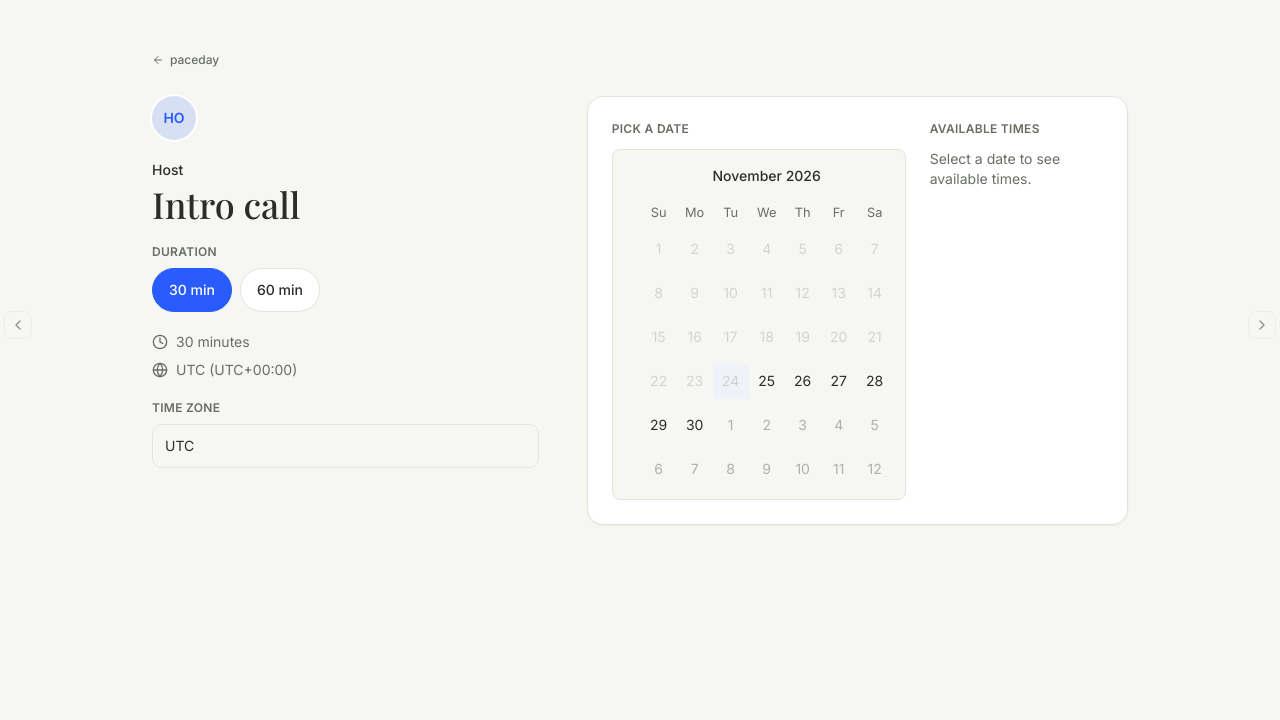
Test: PAC-82 public booking: idempotent retry › AC-26: a lost answer shows 'may have been saved' and one Try again; nothing re-sends until it is pressed; pressing sends the same key and body once
The image size is (1280, 720).
Click the button "25" at point(767, 381), box [749,363,785,399]
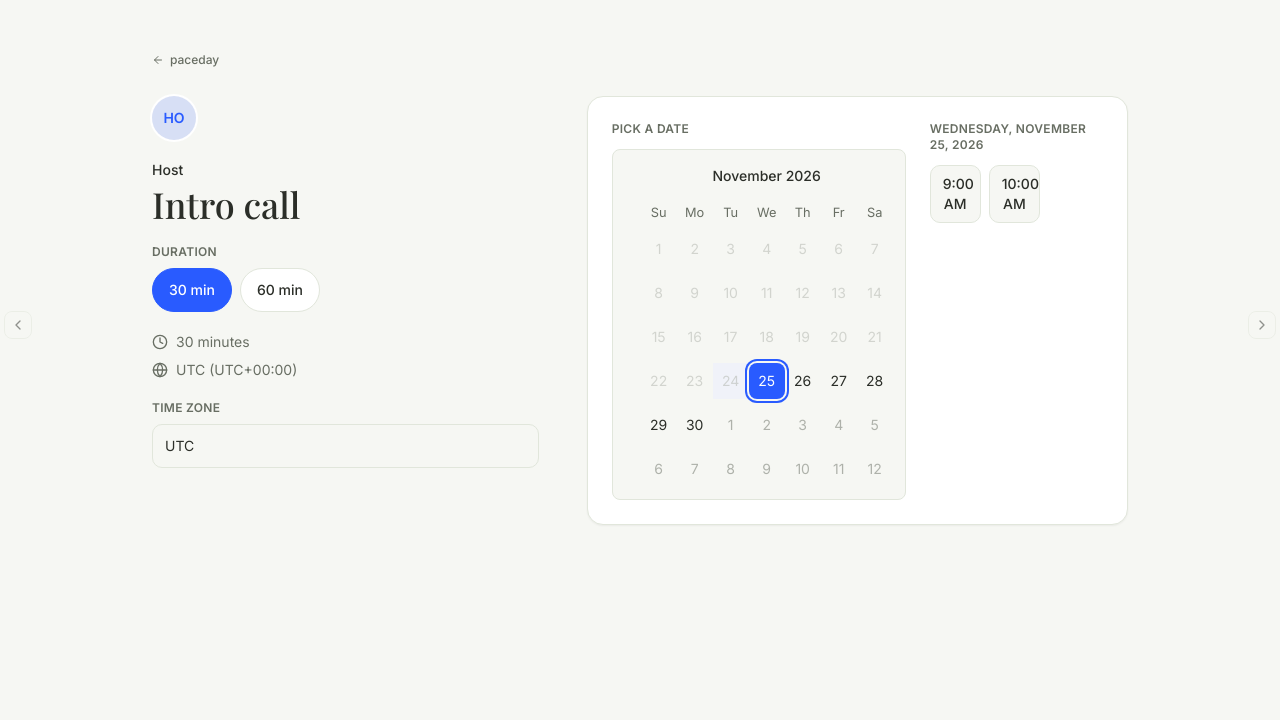
Check: the button labelled "9:00 AM" is shown
Check: the button labelled "10:00 AM" is shown, box [989,165,1040,223]
Click the button labelled "9:00 AM" at point(955, 194), box [930,165,981,223]
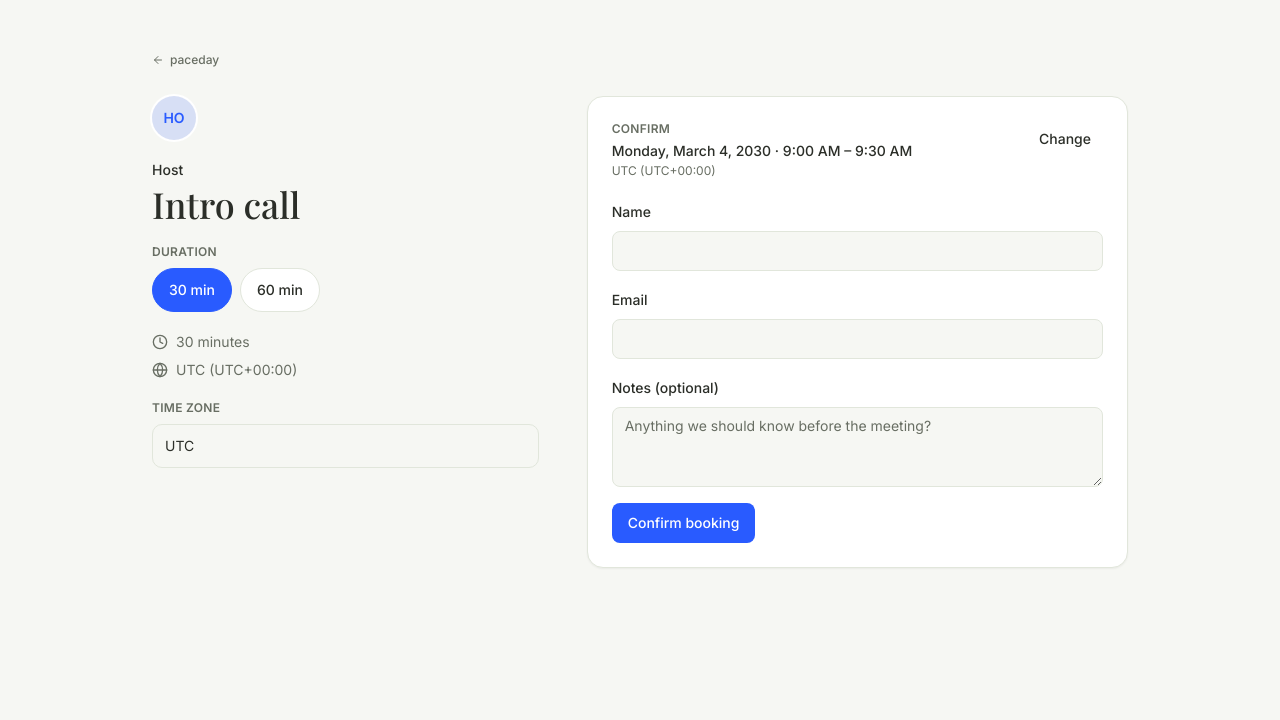
Type "Booker" into the field labelled "Name" at point(857, 251), box [612,231,1103,271]
Type "booker@co.com" into the field labelled "Email" at point(857, 339), box [612,319,1103,359]
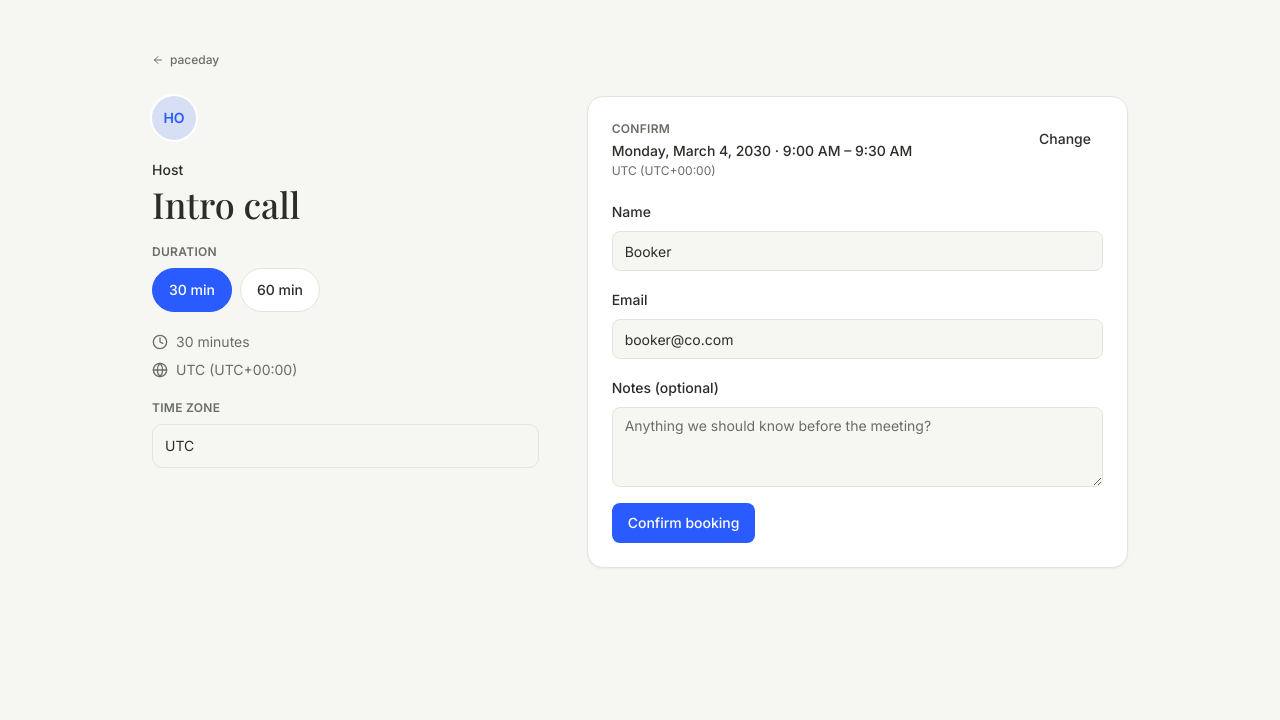
Type "Agenda" into the text box labelled "Notes (optional)" at point(857, 447), box [612,407,1103,487]
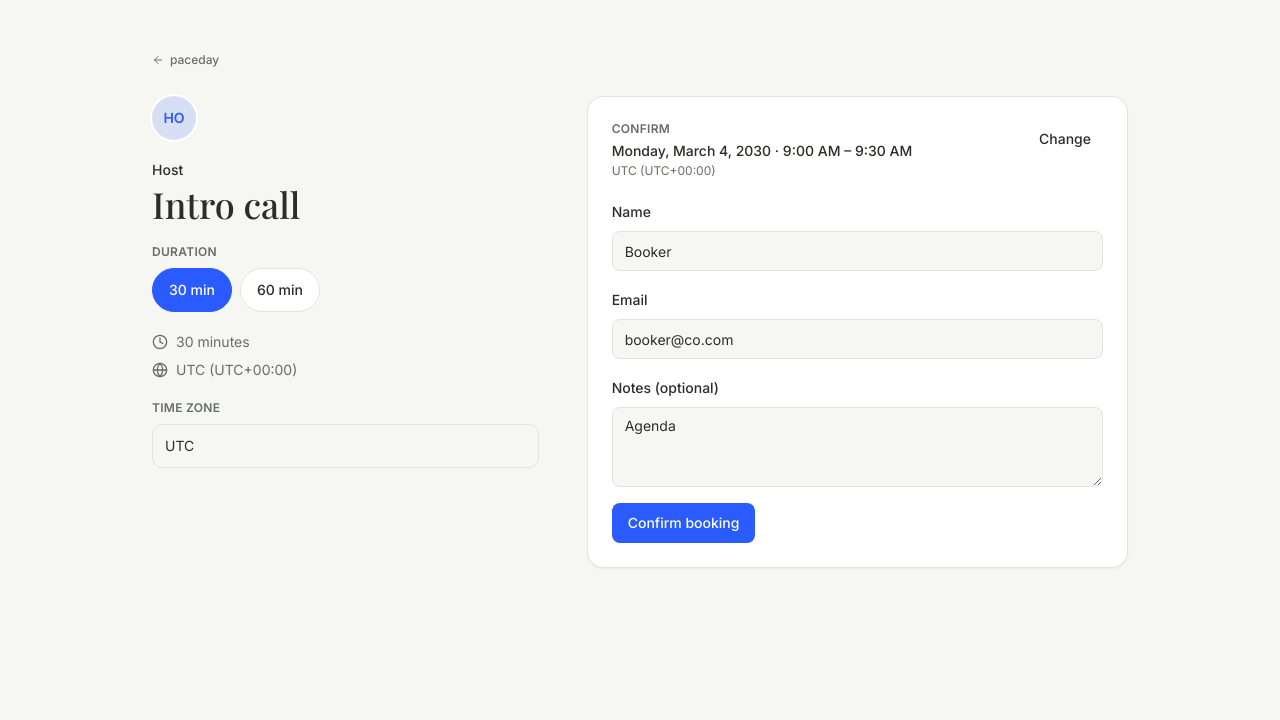
Click the button "Confirm booking" at point(684, 523), box [612,503,756,543]
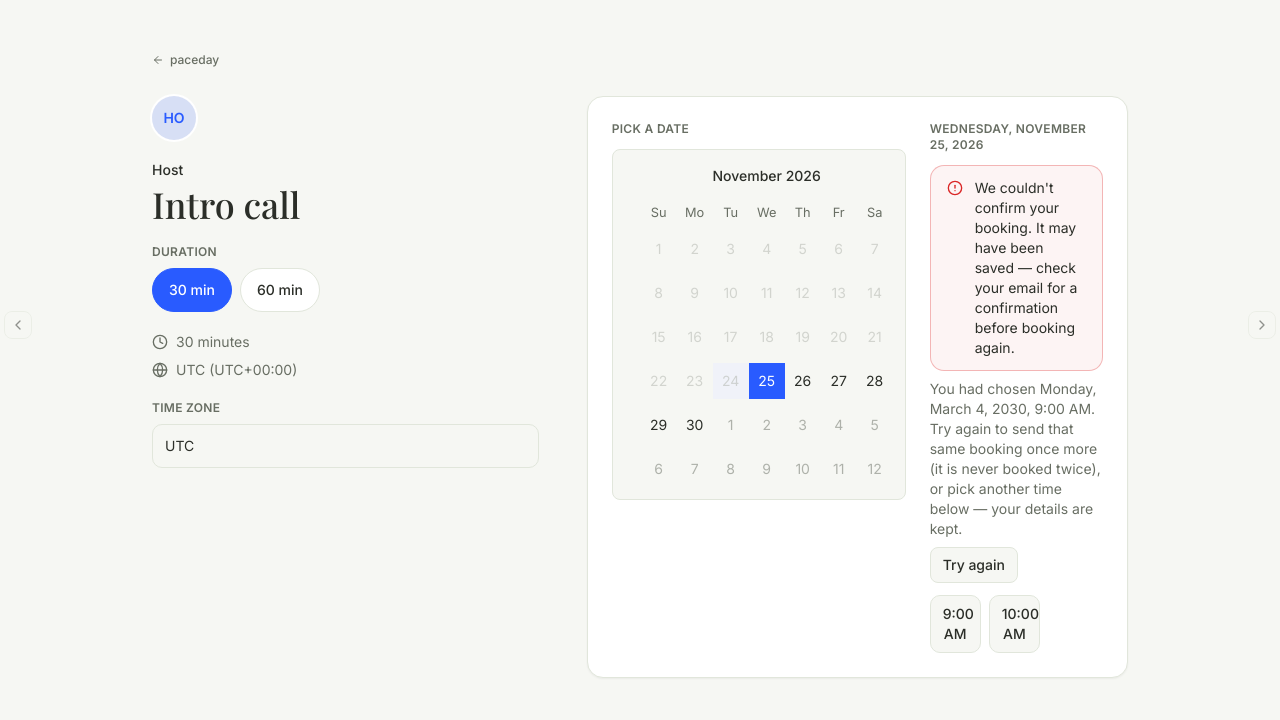
Check: the number of buttons with test id "booking-try-again" is 1
Check: the message with test id "api-error" shows "We couldn't confirm your booking. It may have been saved — check your email for a confirmation before booking again.", box [975,179,1077,356]
Click the button with test id "booking-try-again" at point(974, 565), box [930,547,1018,583]
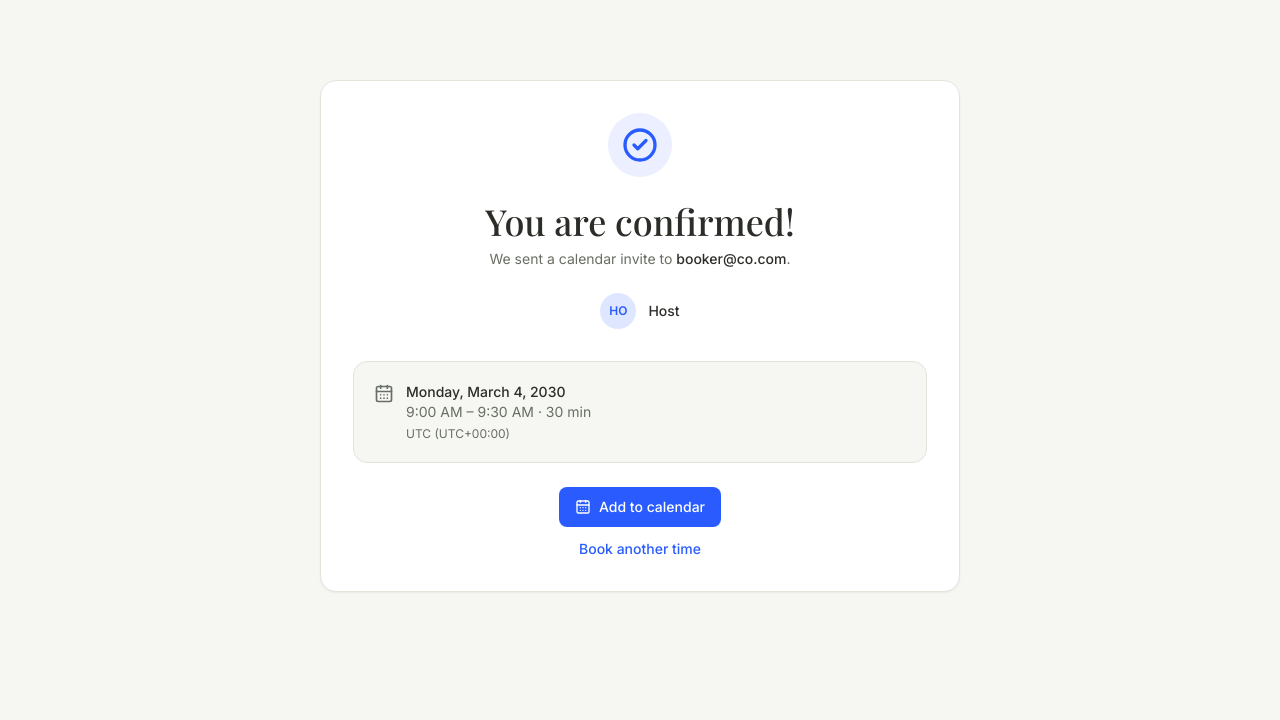
Check: the heading "You are confirmed!" is shown, box [485,197,795,245]
